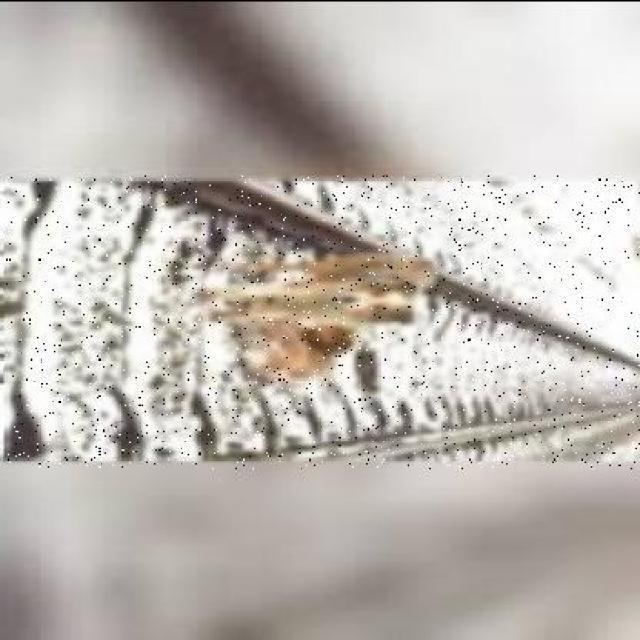rail: (7, 176, 640, 469)
